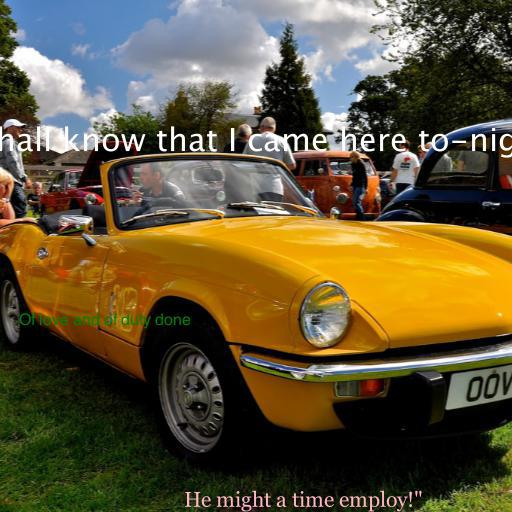Georgia: (183, 490, 423, 512)
Lucida Grande: (0, 126, 512, 158)
SignPainter: (19, 313, 191, 329)
